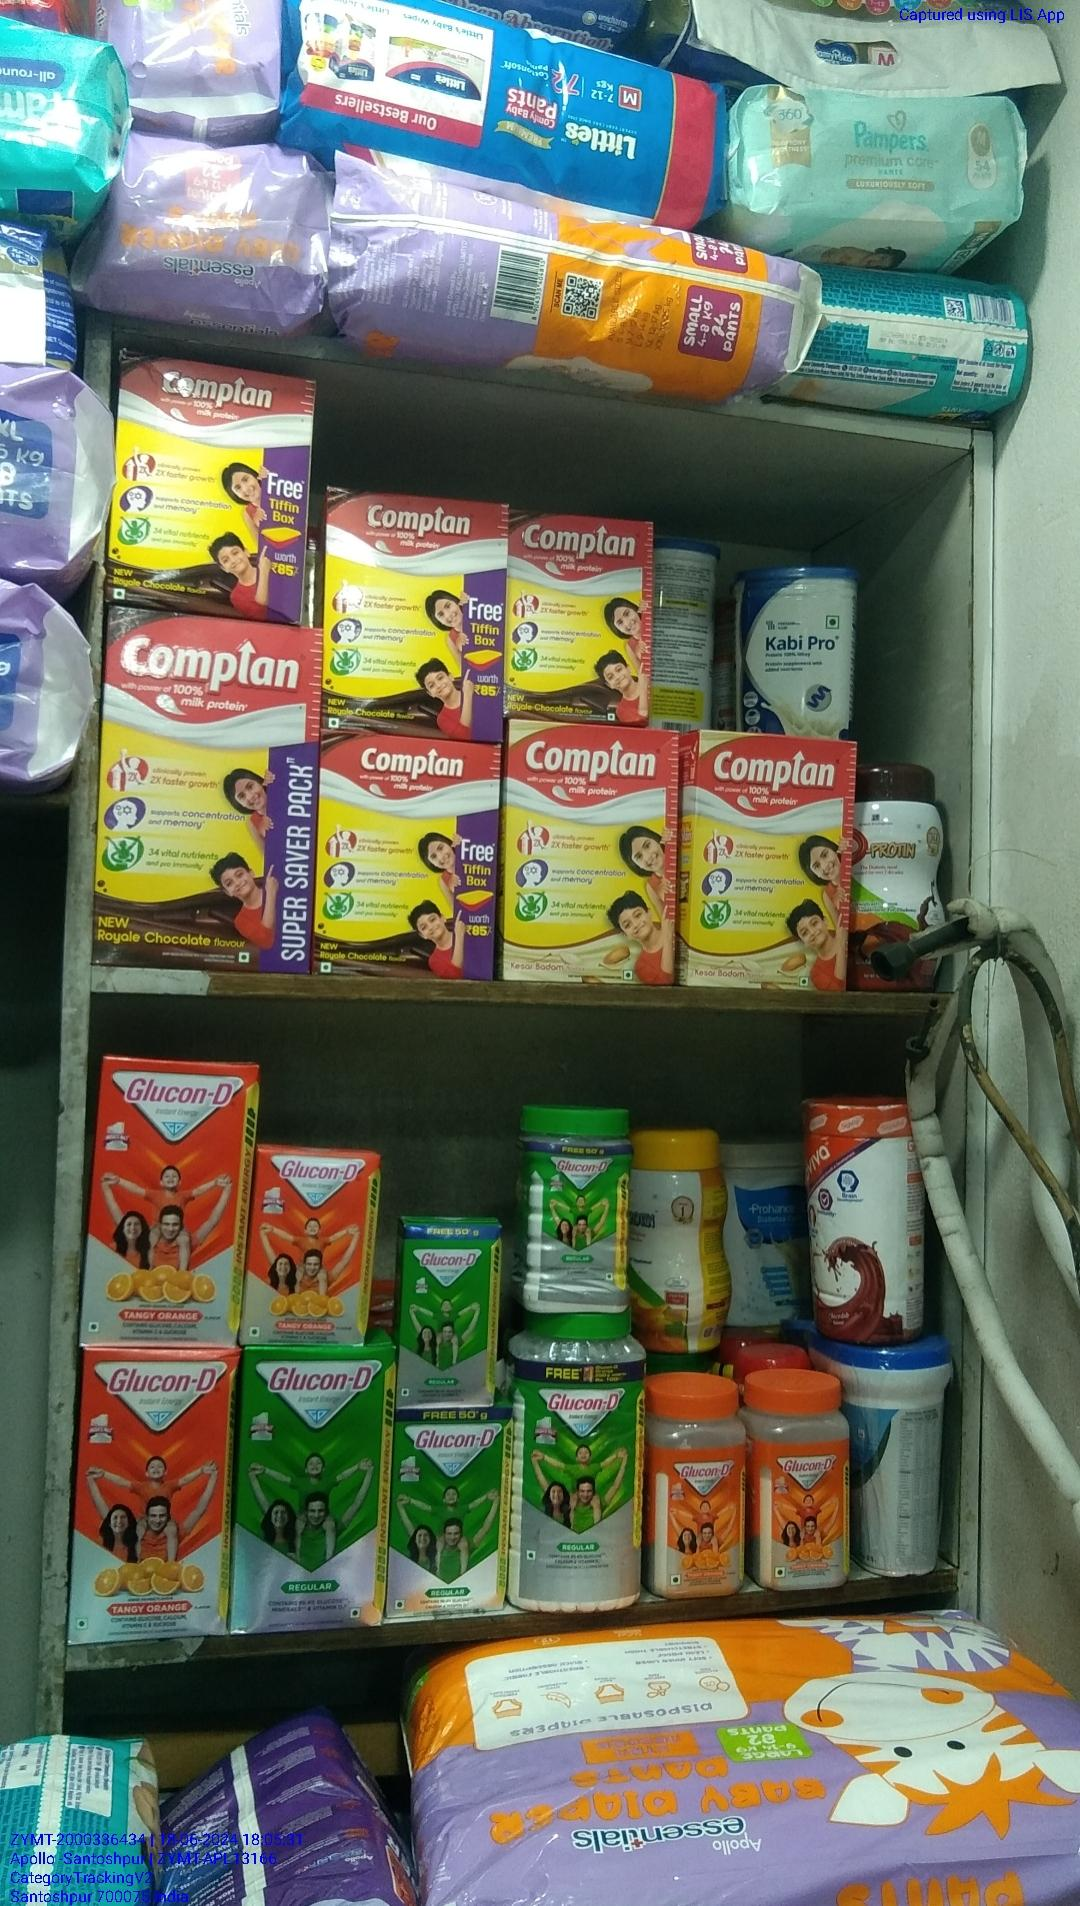COMPLAN_CHOCOLATE_1_KG_PACK: (99, 623, 313, 967)
COMPLAN_CHOCOLATE_200_GMS_PACK: (509, 511, 649, 720)
COMPLAN_CHOCOLATE_500_GMS_PACK: (109, 350, 308, 606), (326, 488, 504, 734), (319, 745, 497, 978)
COMPLAN_KESAR_BADAM_500_GMS_PACK: (511, 729, 679, 979), (693, 734, 847, 988)
